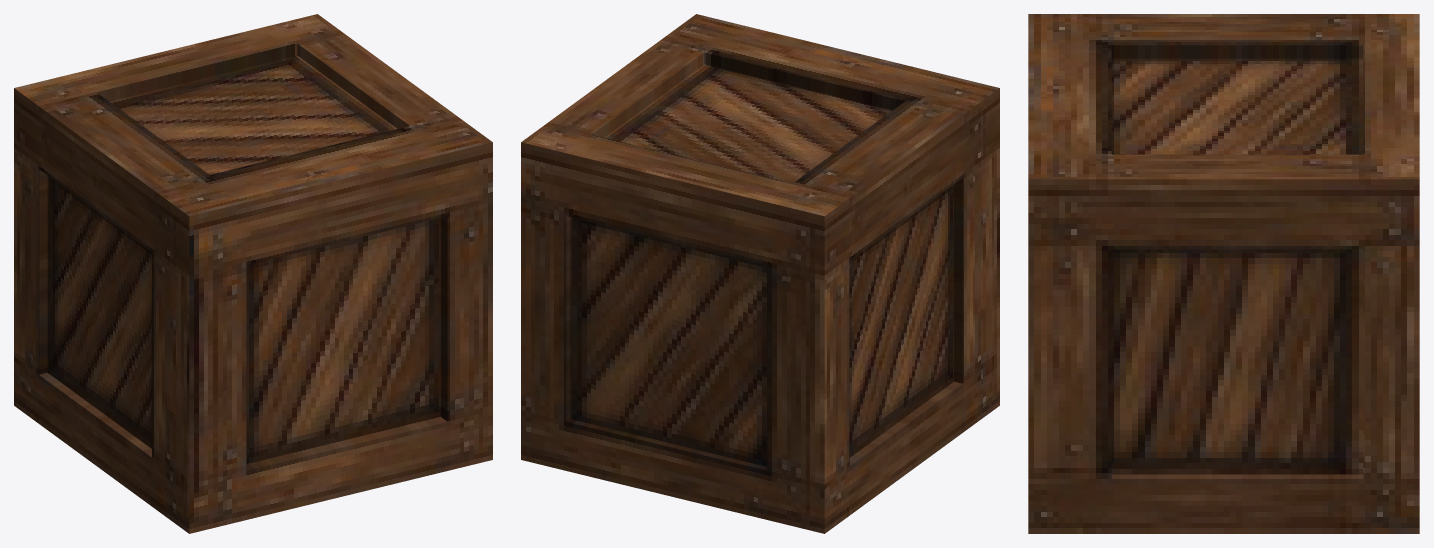
File: caixa_cartoon.glb
3 views of the same model, side by side, from view 1: azimuth 30°, elevation 25°; view 2: azimuth 150°, elevation 25°; view 3: azimuth 270°, elevation 25° (orthographic). The views are drawn at different scales.
Visible parts, largest first — view 1: Object_2; view 2: Object_2; view 3: Object_2.
Boxes of the visible parts, left/top/right/bottom form: Object_2: left=14, top=14, right=492, bottom=533; Object_2: left=521, top=14, right=999, bottom=533; Object_2: left=1028, top=14, right=1419, bottom=533.
Bounding box in the file's own units: 2 × 2 × 2.
1 material, 1 textured.
